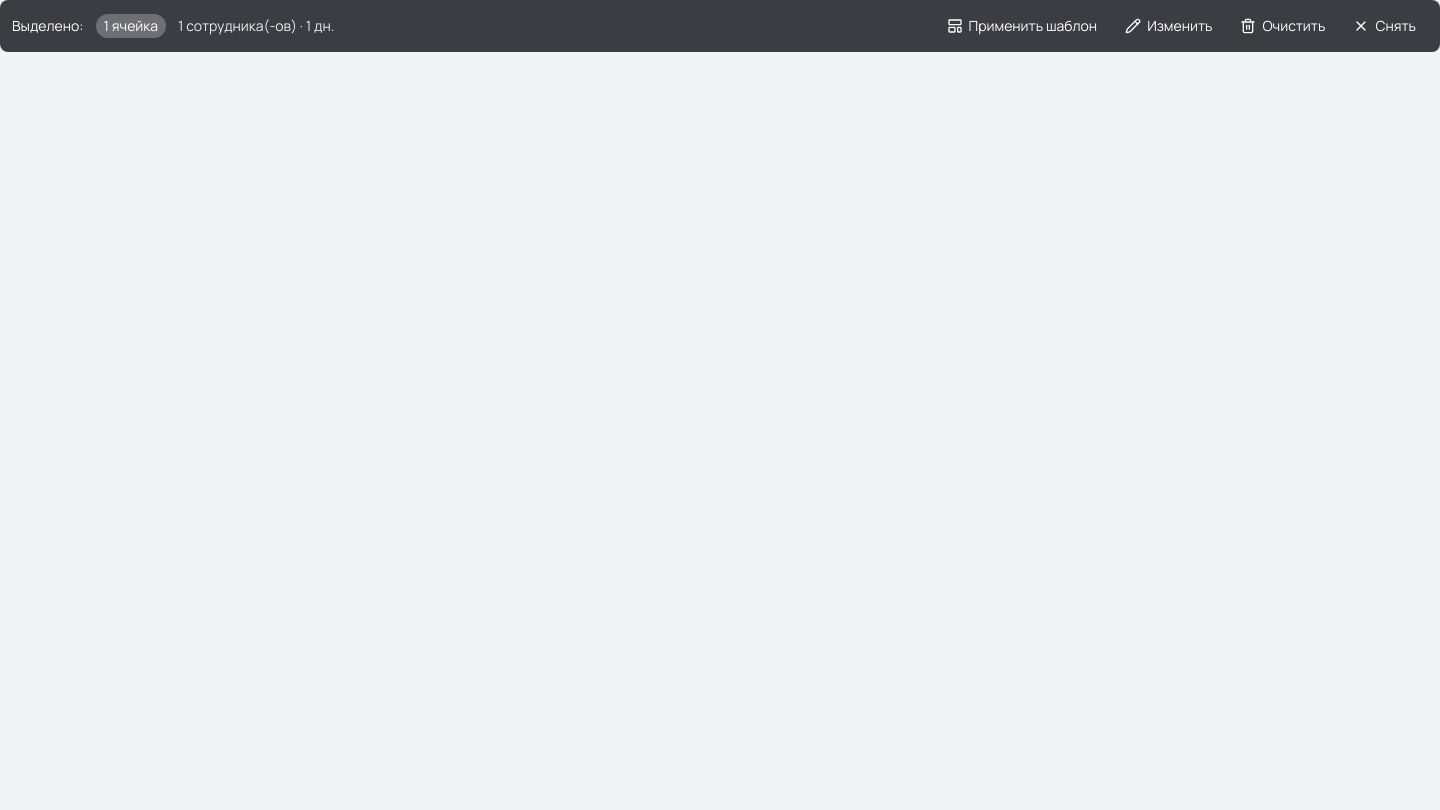
Test: SelectionToolbar: изменить время › подставляет время первой выделенной смены
Step 1. Click the button with aria-label "Изменить время" → (1169, 26), box [1113, 10, 1224, 42]
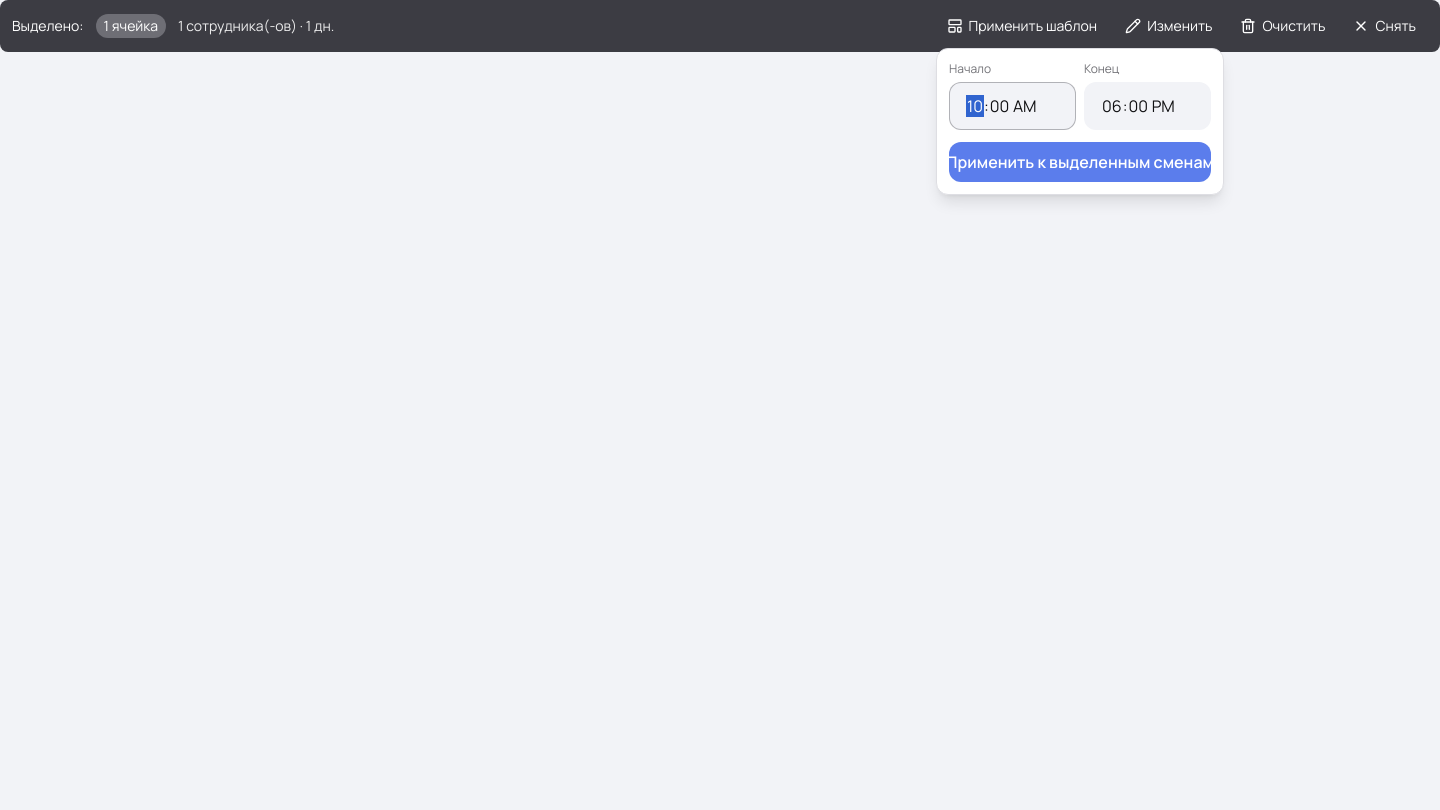
Now the time field labelled "Начало" holds "10:00", box [949, 82, 1076, 130]
Now the time field labelled "Конец" holds "18:00", box [1084, 82, 1211, 130]
